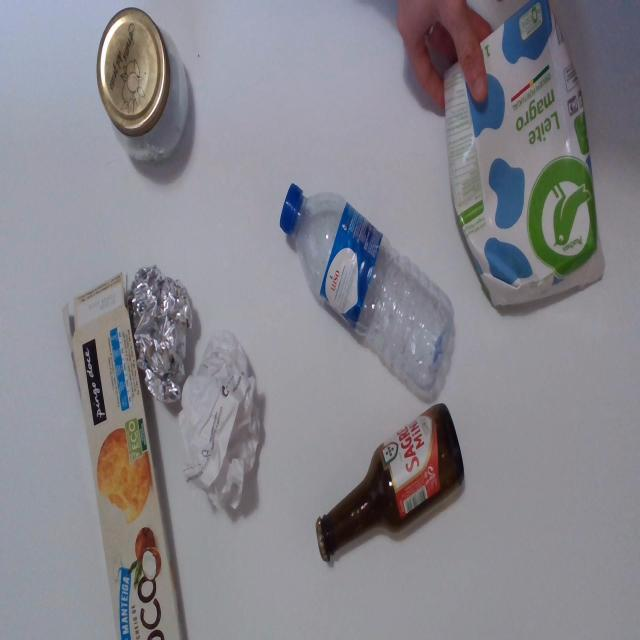Cardboard: (60, 274, 191, 640)
Glass: (317, 402, 465, 570)
Paper: (179, 332, 262, 511)
Plastic: (277, 181, 454, 397)
